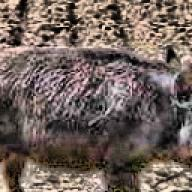boar: (0, 43, 192, 192)
